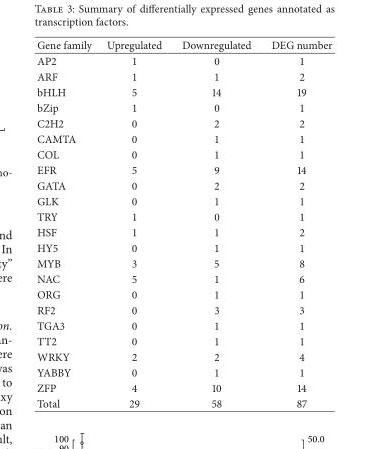table: (36, 36, 331, 410)
table column: (171, 36, 260, 410), (98, 36, 171, 410), (260, 36, 331, 410), (36, 36, 98, 410)
table column header: (36, 36, 331, 52)
table row: (36, 36, 331, 52), (36, 52, 331, 68), (36, 83, 331, 99), (36, 99, 331, 115), (36, 130, 331, 146), (36, 161, 331, 177), (36, 192, 331, 208), (36, 208, 331, 224), (36, 239, 331, 255), (36, 270, 331, 286), (36, 301, 331, 317), (36, 317, 331, 333), (36, 348, 331, 364), (36, 379, 331, 395), (36, 68, 331, 83), (36, 115, 331, 130), (36, 146, 331, 161), (36, 177, 331, 192), (36, 224, 331, 239), (36, 255, 331, 270), (36, 286, 331, 301), (36, 333, 331, 348), (36, 364, 331, 379), (36, 395, 331, 410)
